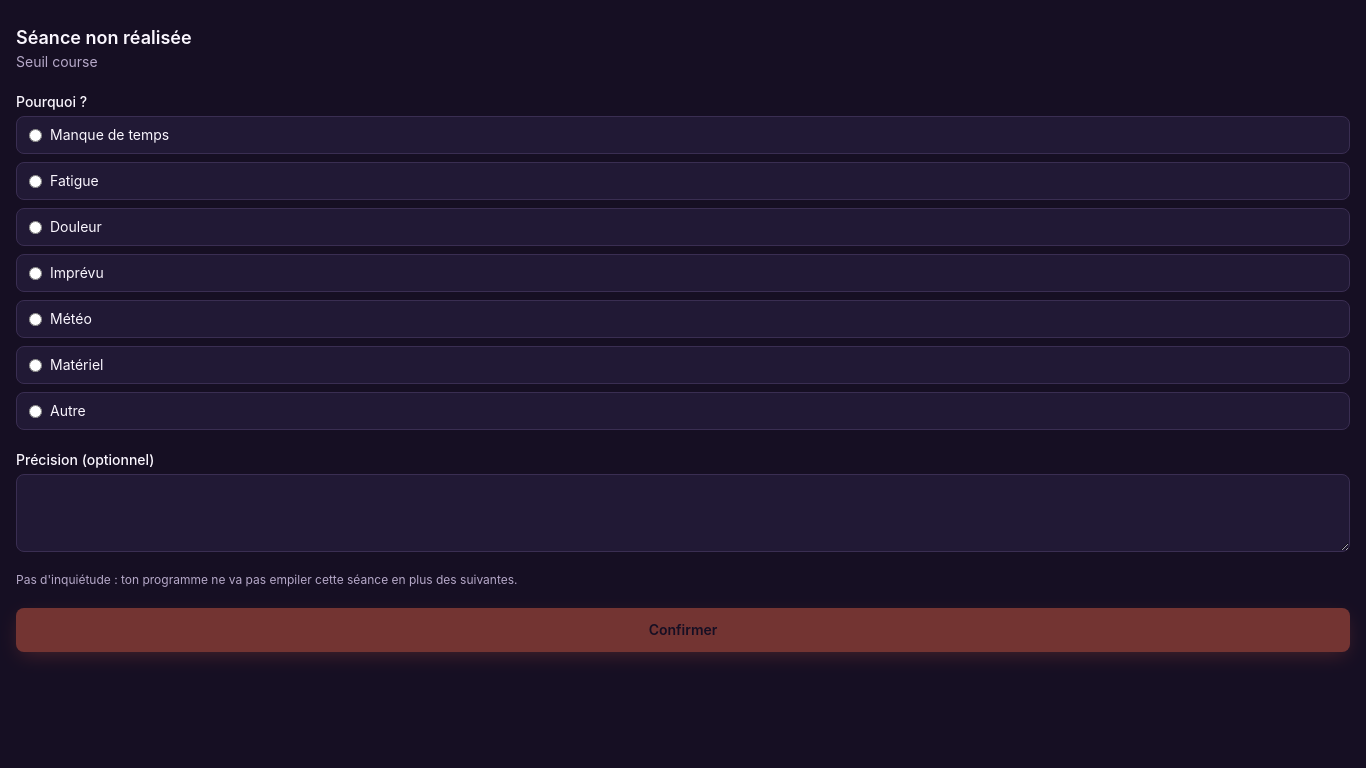
MissedSessionPage › MOVEs a missed key session to the earliest slot with enough free time
Click the radio button labelled "Manque de temps" at (36, 135), box x1=29 y1=128 x2=42 y2=142
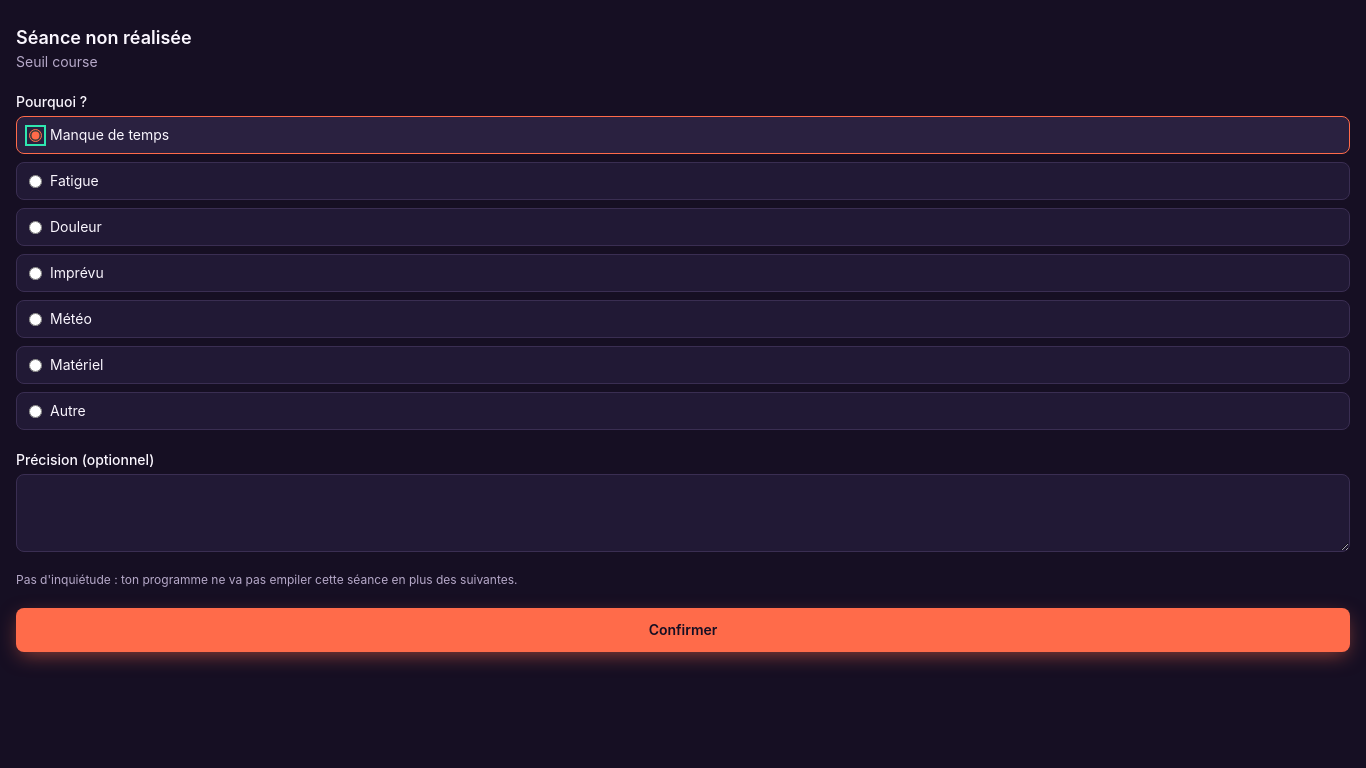
Click the button "Confirmer" at (683, 630), box x1=16 y1=608 x2=1350 y2=652
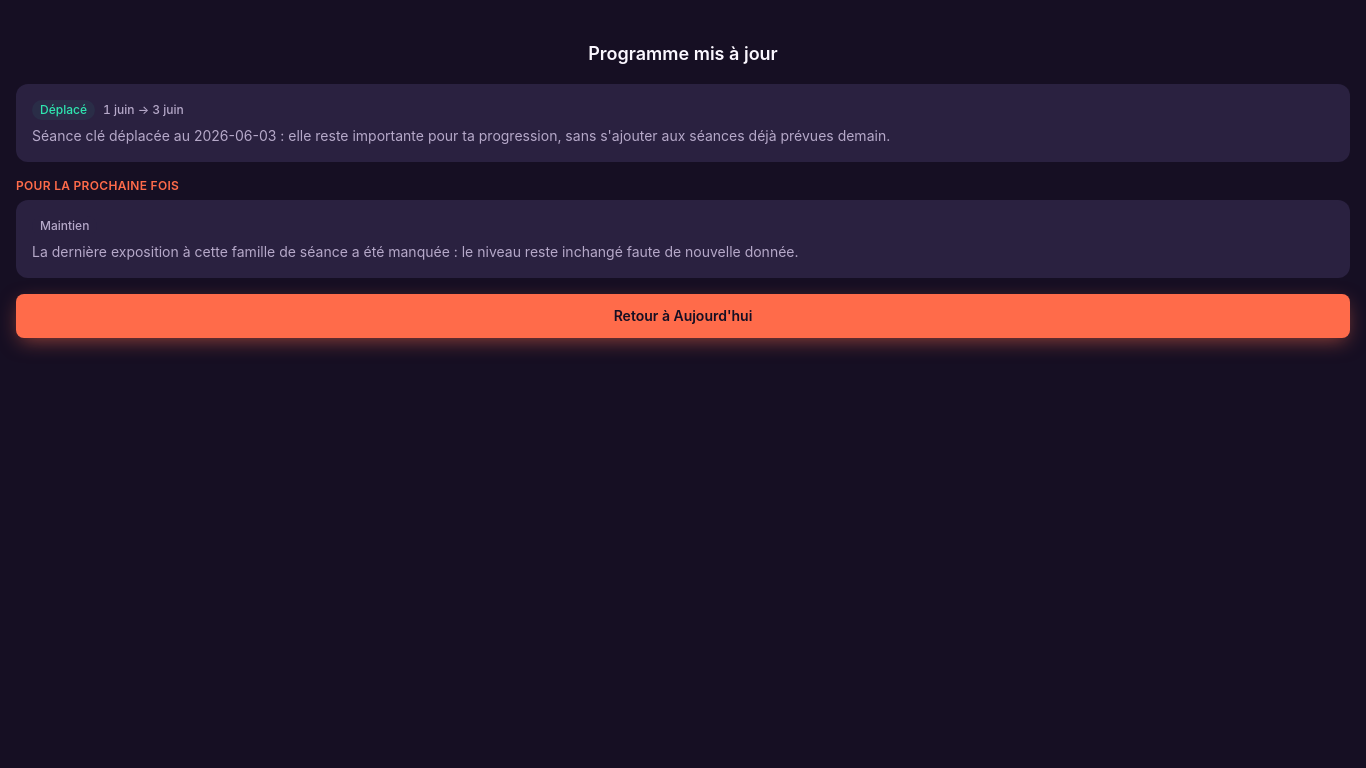
Now the text "déplacée au 2026-06-03" is shown, box x1=32 y1=127 x2=890 y2=144
